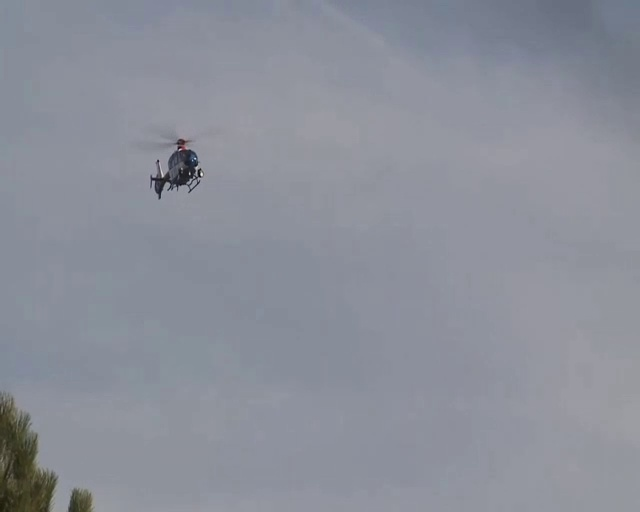HELICOPTER: (132, 130, 207, 199)
